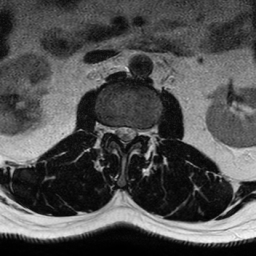CCS_normal: (121, 120, 130, 152)
LFS_stenosis: (137, 120, 145, 141)
LLS_normal: (130, 120, 137, 144)
RFS_normal: (107, 118, 114, 141)
RLS_normal: (114, 120, 121, 143)
